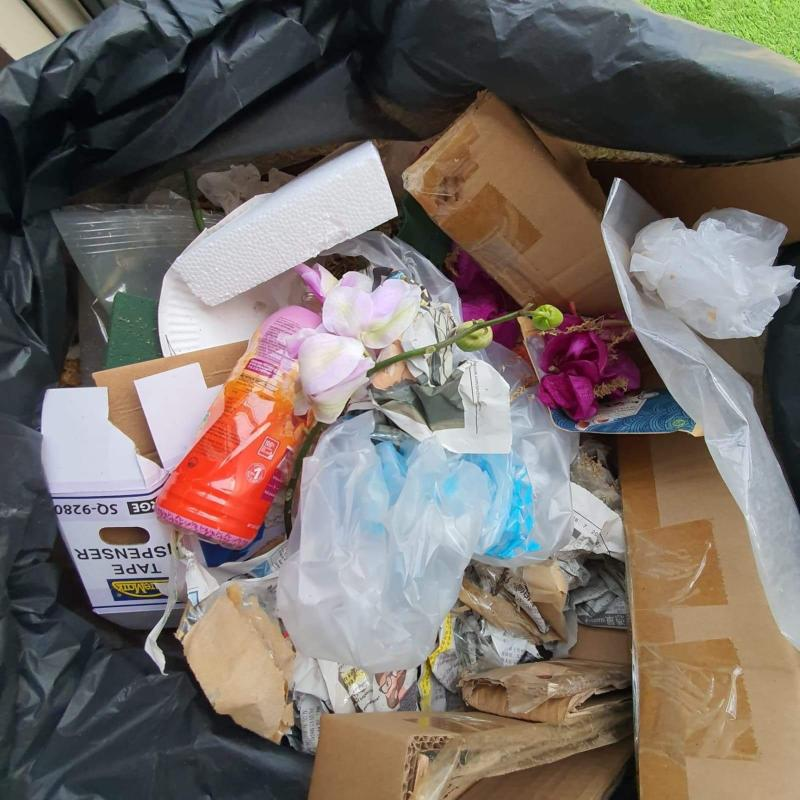cardboard: (622, 430, 799, 800), (41, 336, 249, 632), (403, 88, 632, 326), (310, 705, 634, 800), (179, 585, 294, 745), (155, 261, 305, 356), (464, 658, 637, 724)
paper: (288, 440, 632, 755)
plastic bag: (323, 229, 582, 573), (274, 409, 494, 672), (53, 190, 199, 376), (628, 210, 800, 343), (284, 668, 309, 753)
plastic bottle: (153, 283, 326, 549)
styrofoam containers: (174, 140, 398, 306)
